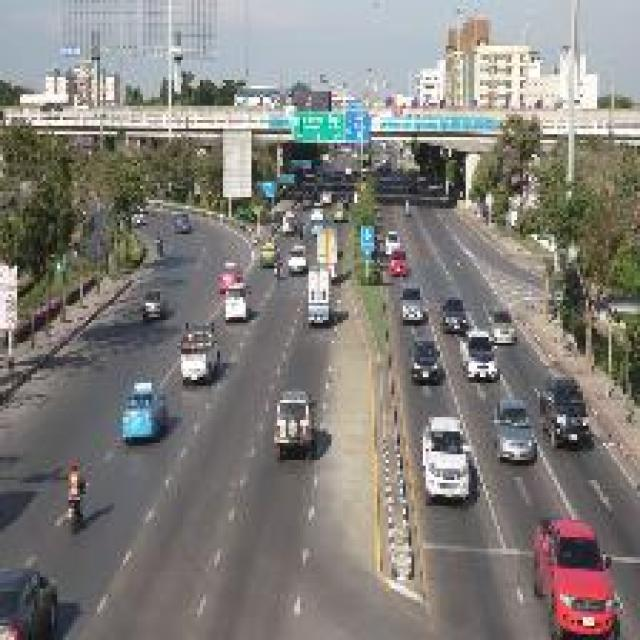other: (524, 514, 631, 626), (203, 250, 254, 296), (377, 246, 416, 266)
